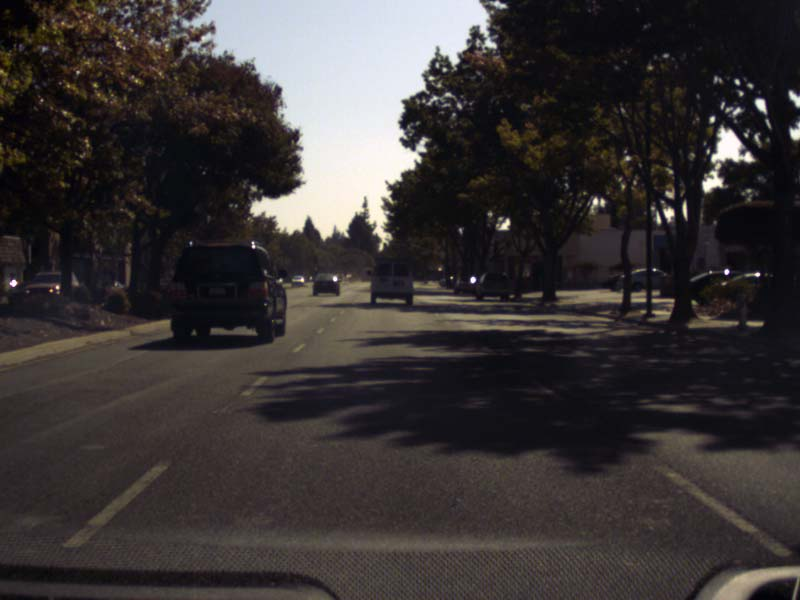Green: (406, 242, 410, 250)
Yellow: (343, 258, 347, 262), (313, 267, 317, 270)
